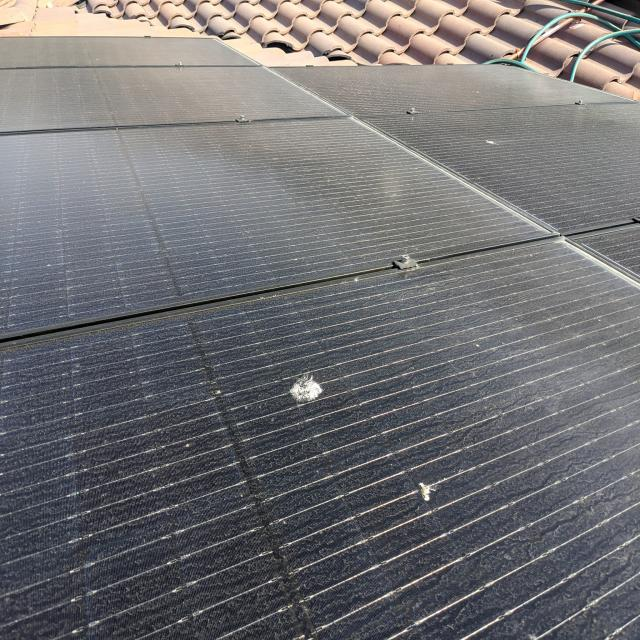dust-solar-panel: (0, 36, 640, 640)
